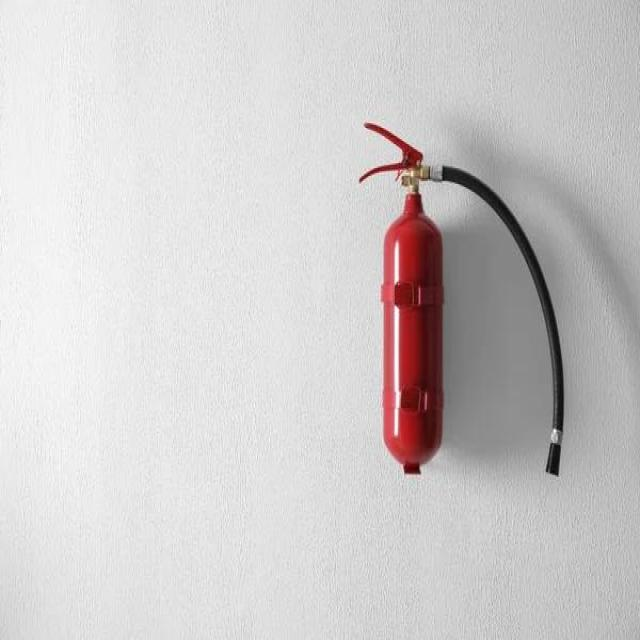fire_extinguisher: (354, 114, 569, 480)
